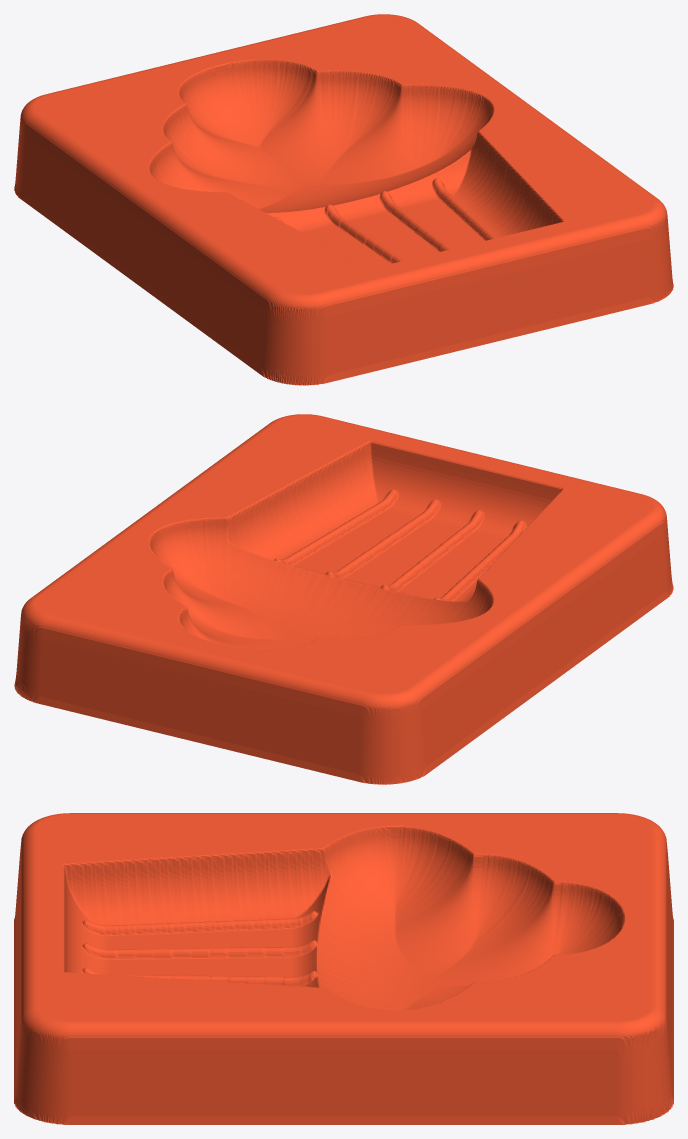
Rendered from mold.glb.
3 views of the same model, one above another, from view 1: azimuth 30°, elevation 25°; view 2: azimuth 150°, elevation 25°; view 3: azimuth 270°, elevation 25° (orthographic). The views are drawn at different scales.
Parts seen in each view (by area): view 1: geometry_0; view 2: geometry_0; view 3: geometry_0.
Boxes of the visible parts, x1,y1,x2,y2 form: geometry_0: (14,14,673,385); geometry_0: (14,414,673,784); geometry_0: (14,813,673,1124).
Size of the model in its own units: 0.085 by 0.0165 by 0.105.
